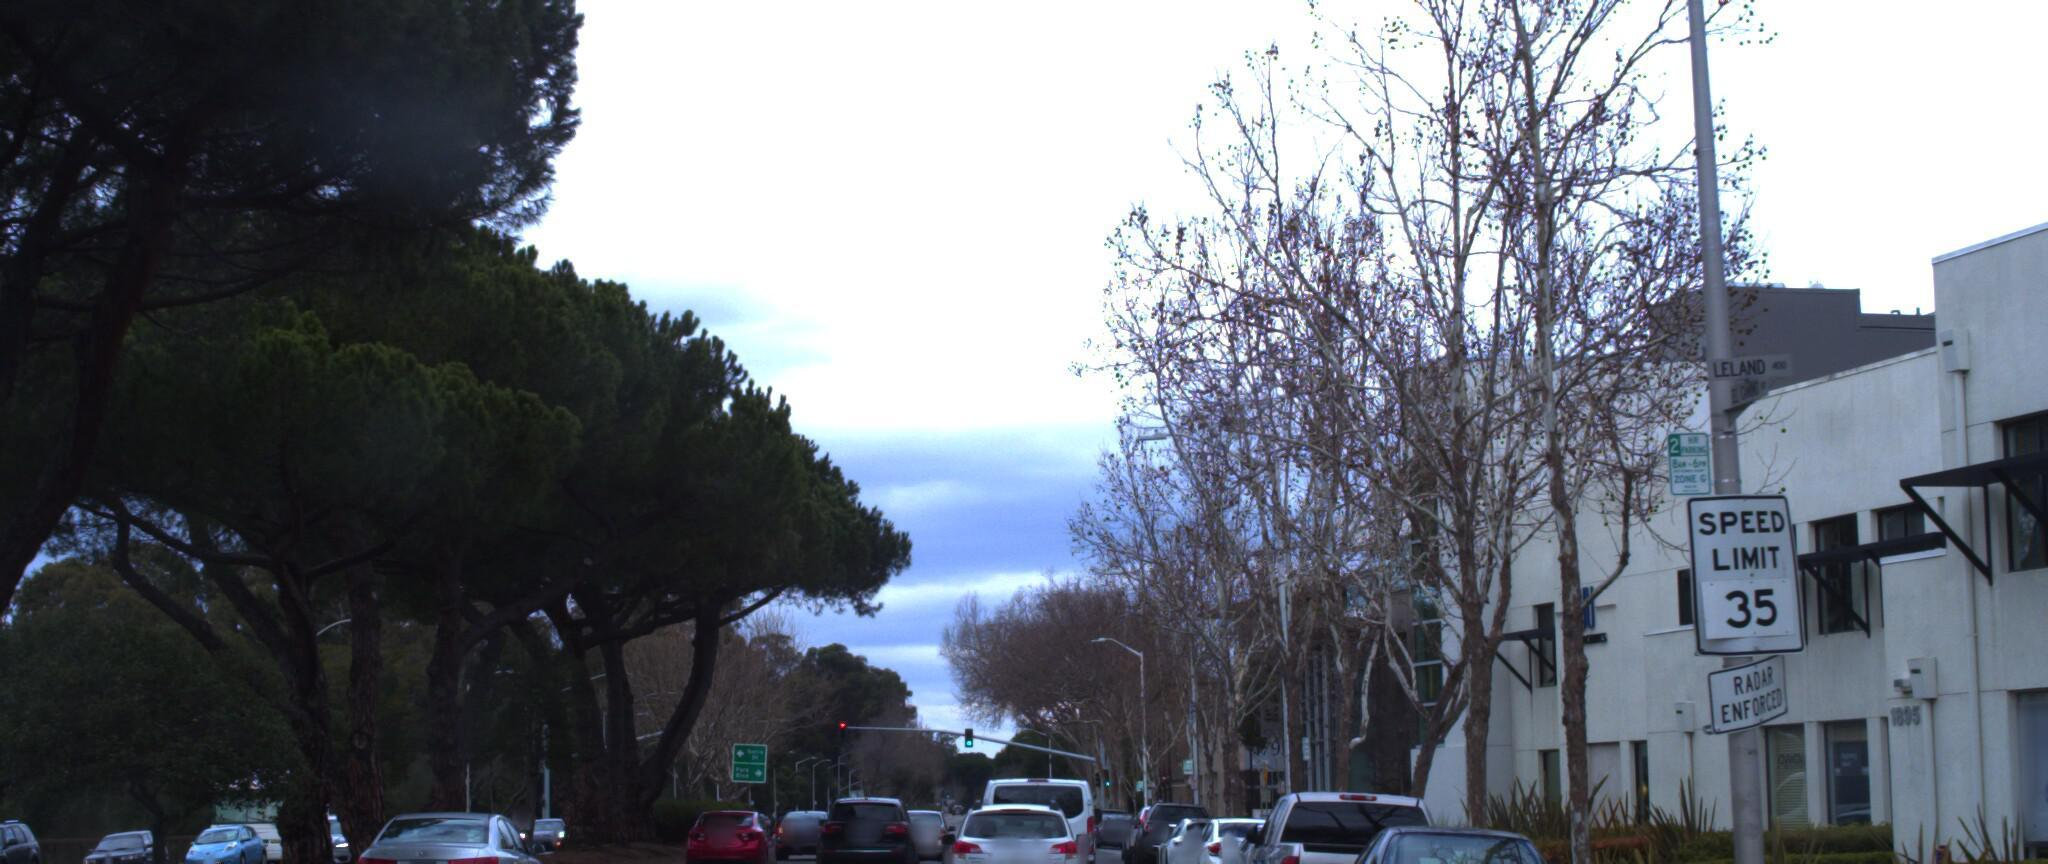car: (1223, 774, 1480, 864), (1307, 807, 1593, 864), (347, 797, 568, 864), (944, 783, 1095, 864), (984, 767, 1105, 864), (1199, 810, 1401, 864), (807, 780, 916, 864), (1178, 807, 1311, 864), (678, 797, 778, 864), (1125, 786, 1204, 864), (884, 807, 957, 864)
